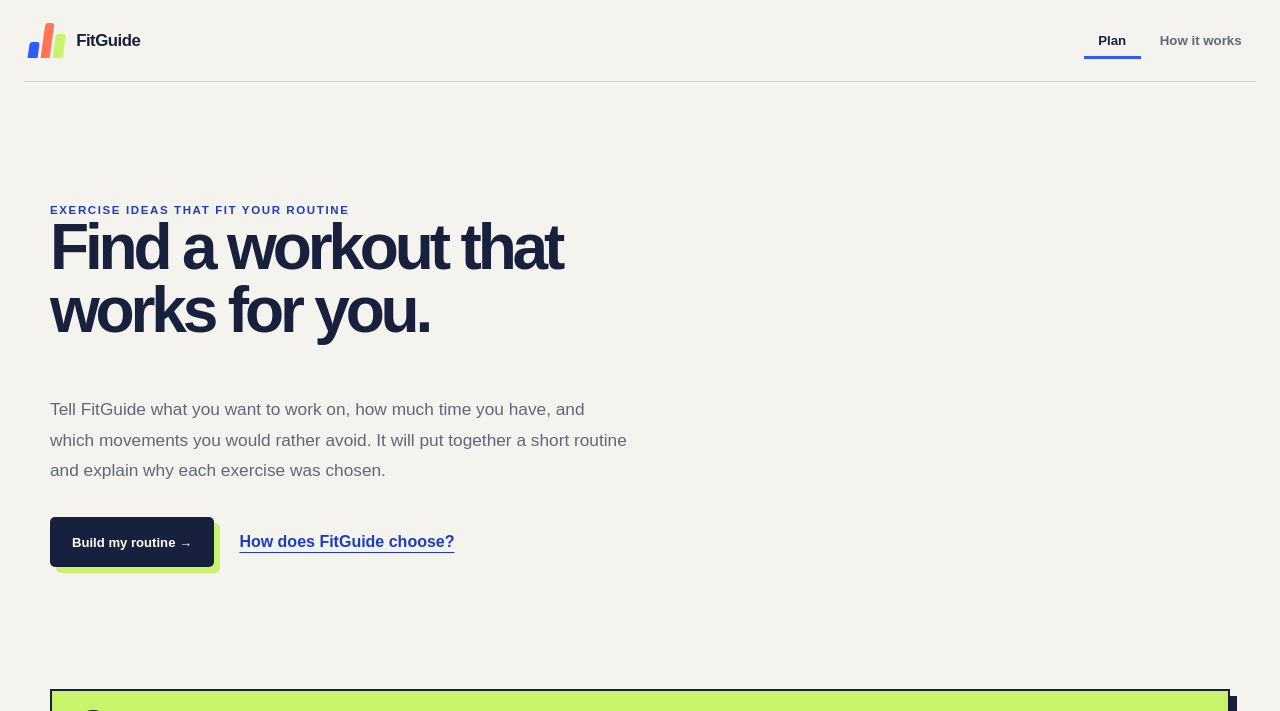
Test: FitGuide application › displays the empty state without weakening restrictions
The image size is (1280, 711).
Click the button "Build my routine →" at (132,542), box [50,517,214,567]
(page scrolled)
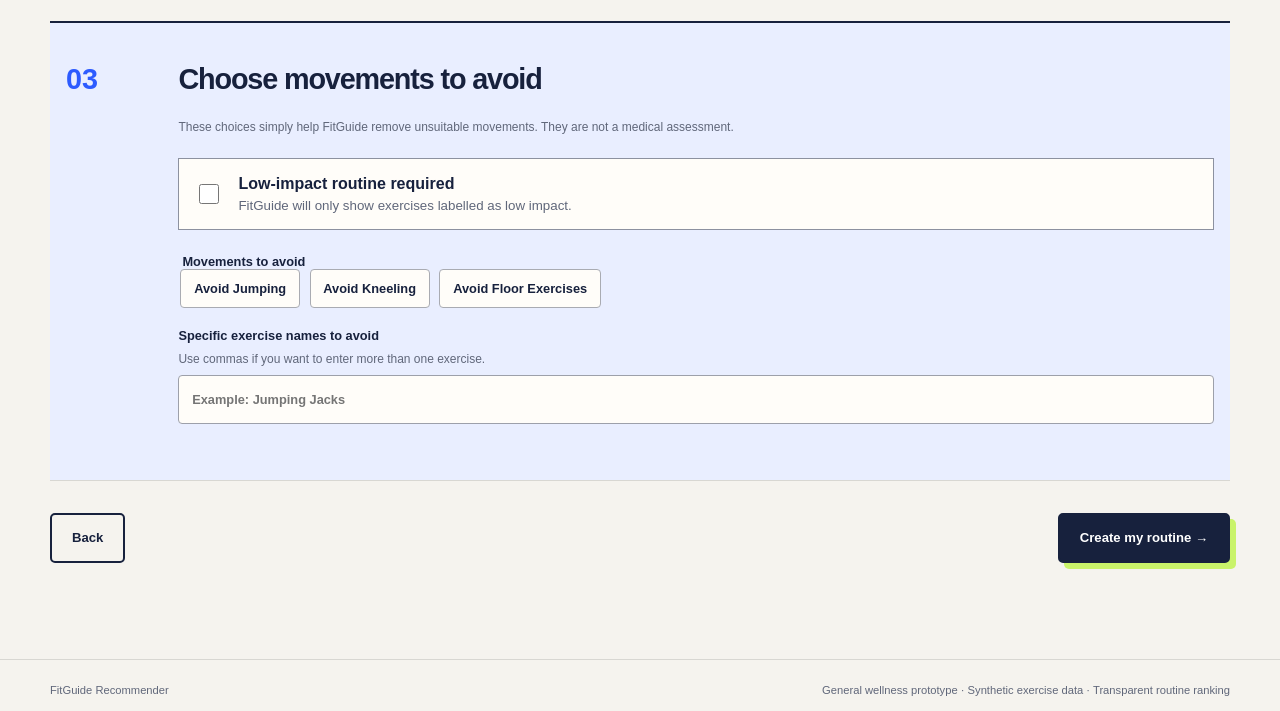
Click the button "Create my routine →" at (1144,538), box [1058,513,1230,563]
(page scrolled)
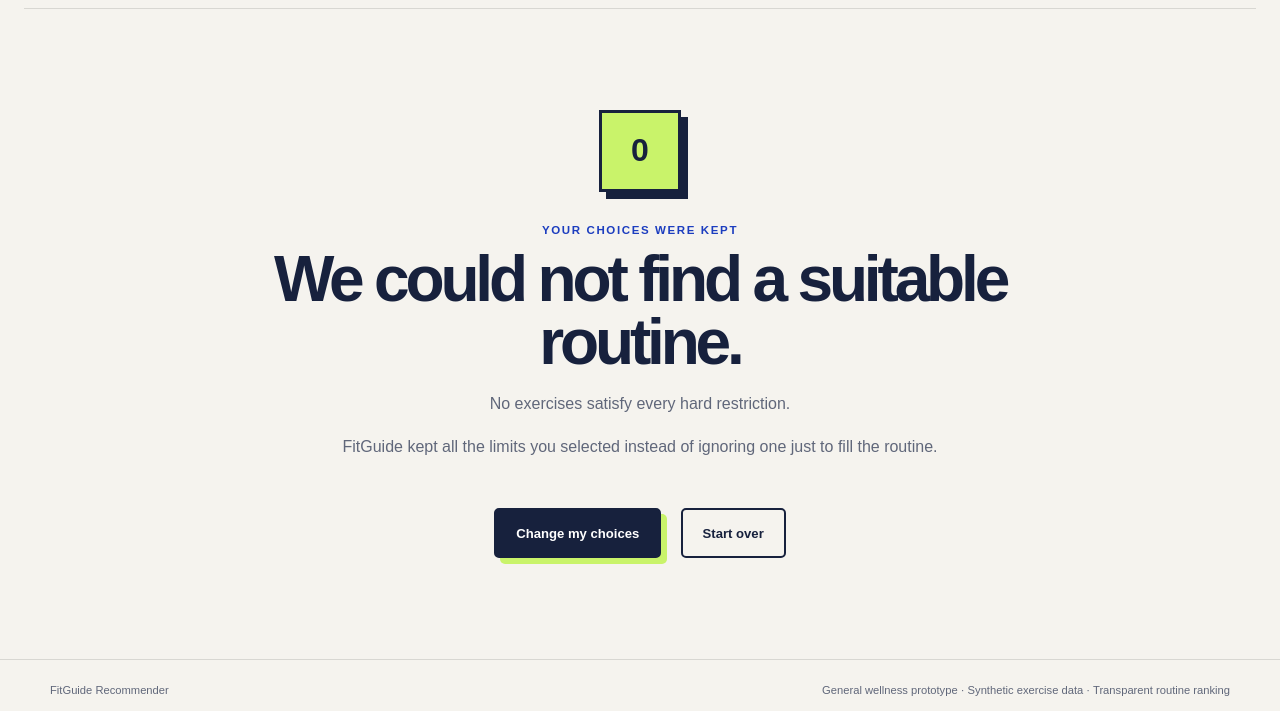
Result: the heading "We could not find a suitable routine." is shown at [274,244,1006,378]
Result: the text "kept all the limits you selected" is shown at [342,438,938,455]
